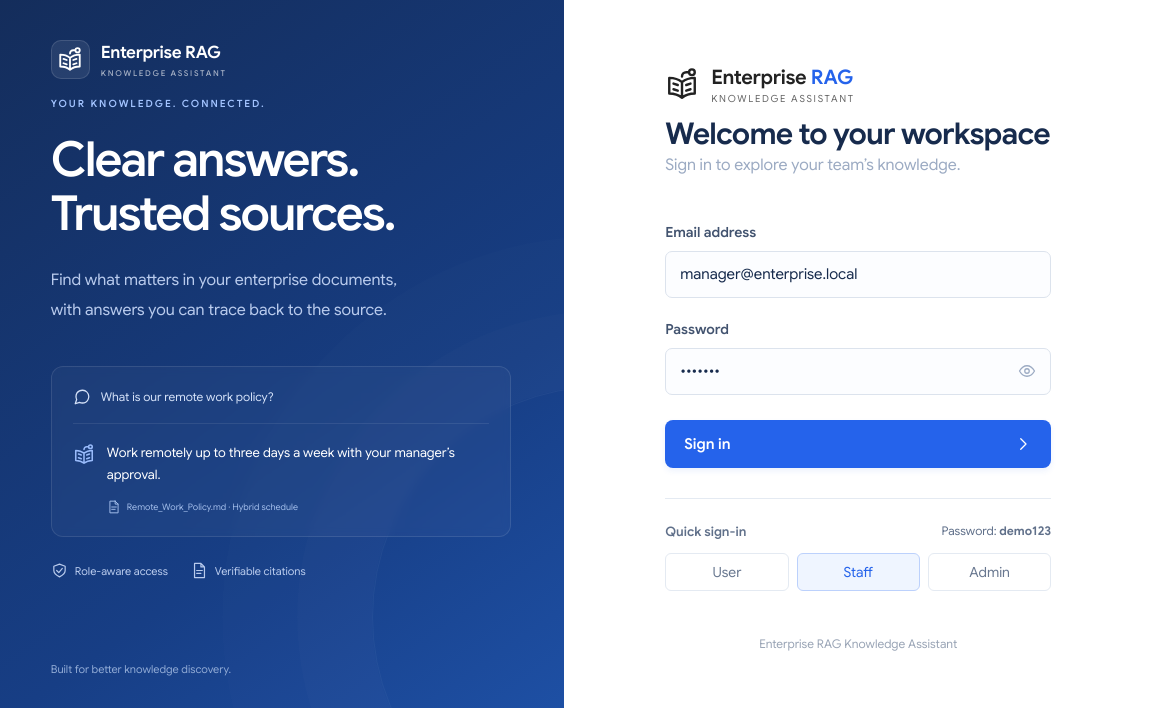
Test case: Sprint 4 frontend workflows › preserves the original retrieval mode on unsaved retry and keeps 403 signed in
Click the button "Sign in" at (707, 444), box [665, 420, 1051, 468]
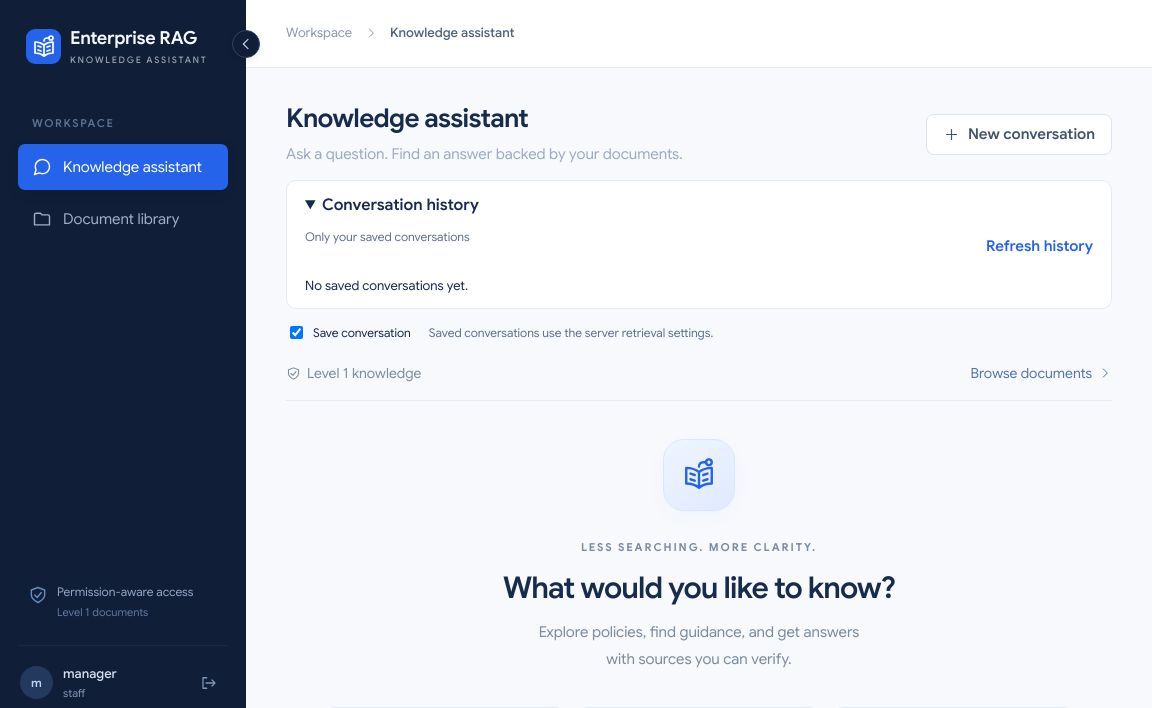
Check: the heading "Knowledge assistant" is shown, box [286, 102, 528, 134]
Click the checkbox labelled "Save conversation" at (296, 332), box [290, 326, 303, 339]
(page scrolled)
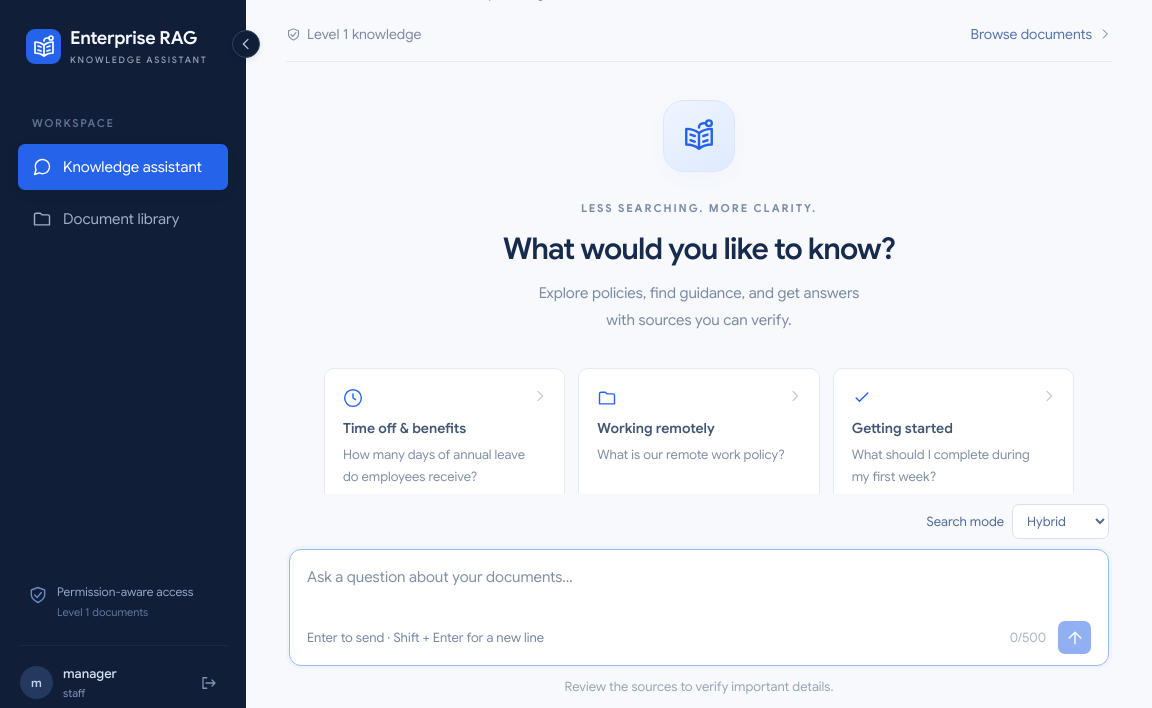
Select "Keyword" in the dropdown labelled "Search mode" at (1060, 522), box [1012, 504, 1109, 539]
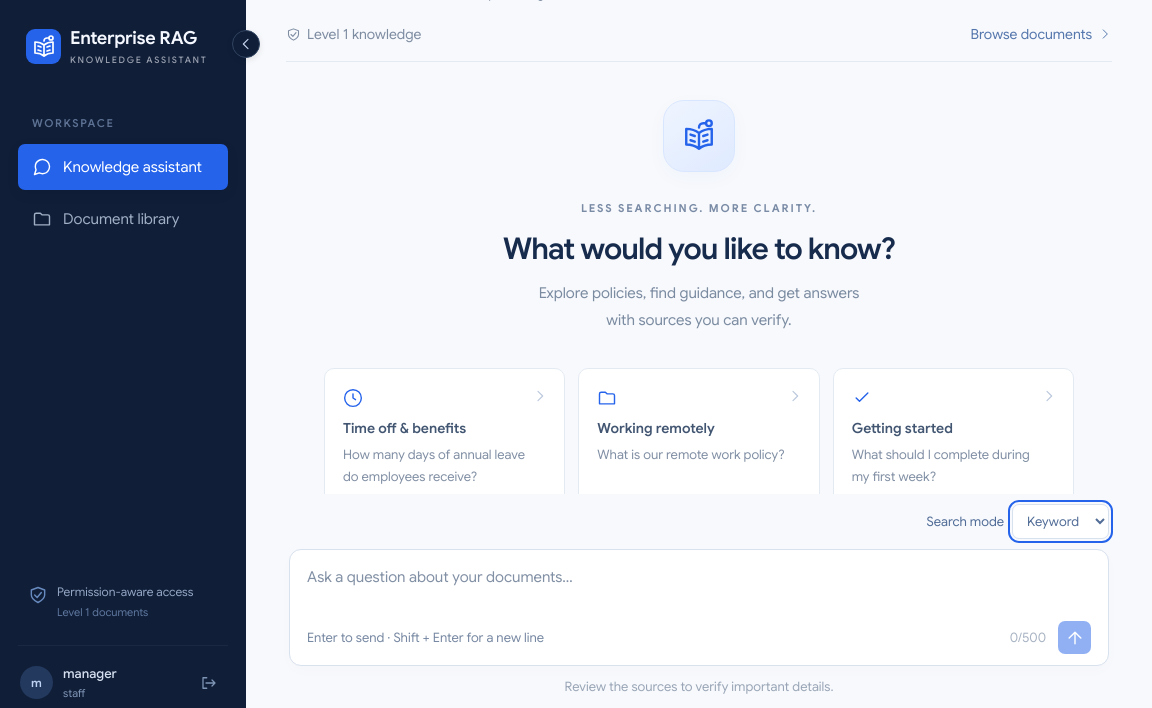
Type "annual leave" into the text box labelled "Ask a question about your documents" at (699, 590), box [307, 565, 1091, 616]
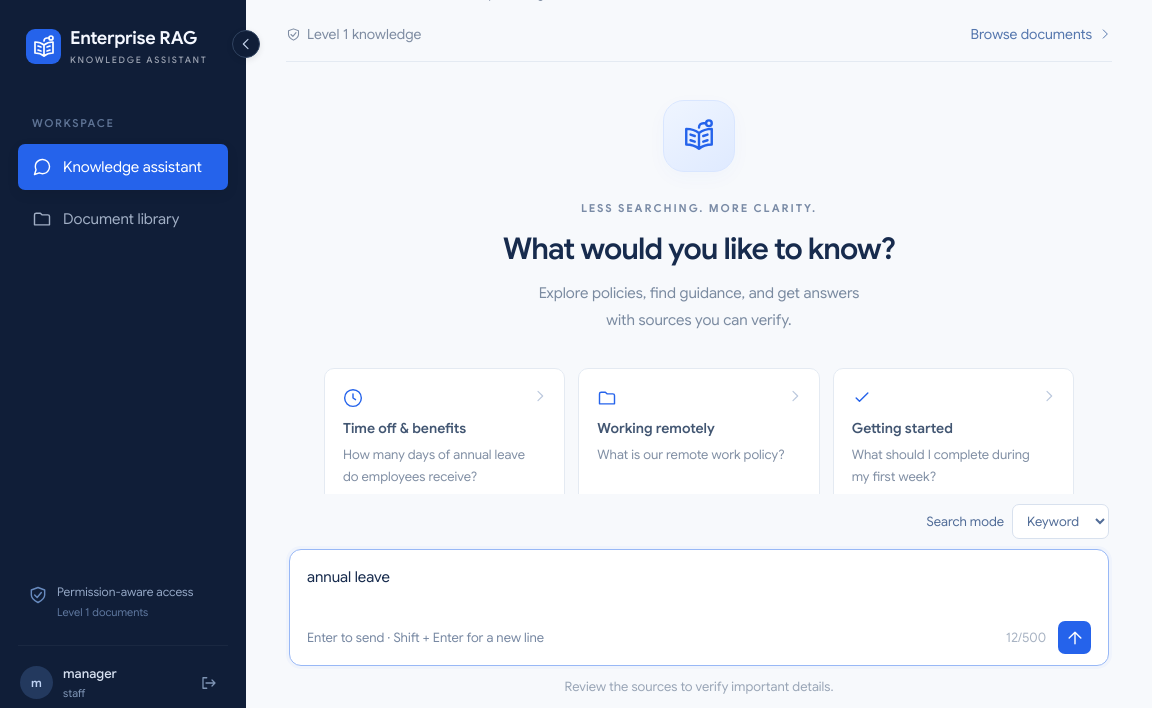
Click the button named "Send question" at (1074, 638), box [1058, 621, 1091, 654]
(page scrolled)
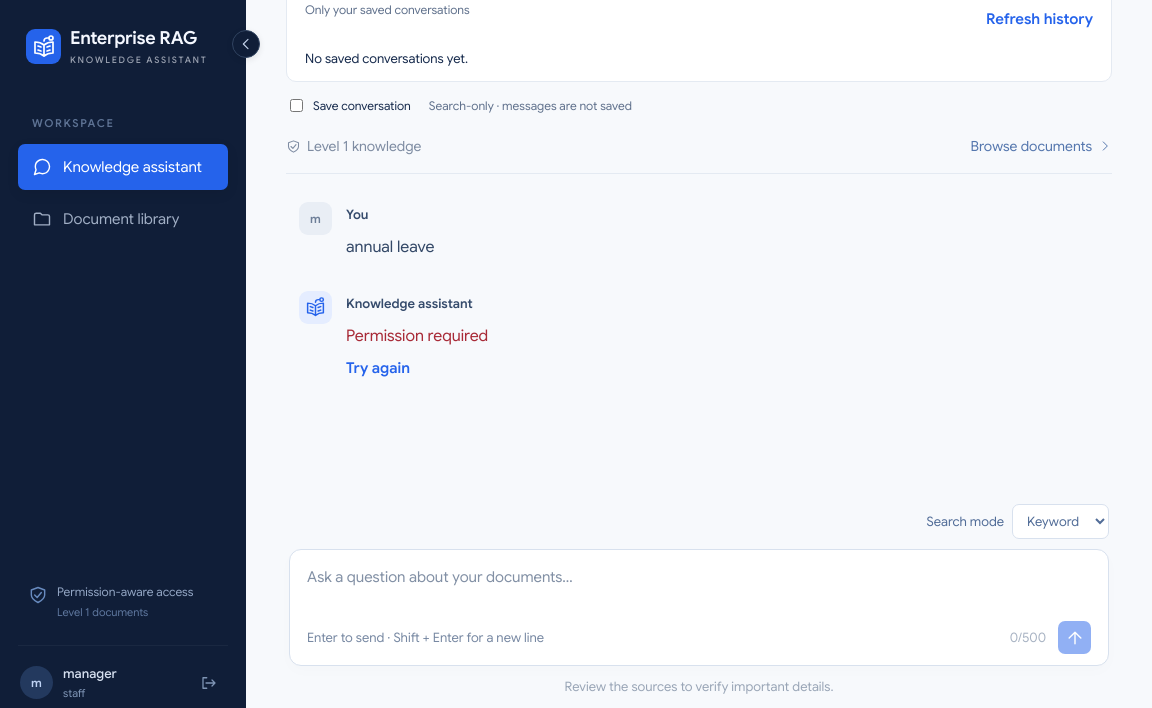
Check: the text "Permission required" is shown, box [346, 326, 488, 346]
Select "Semantic" in the dropdown labelled "Search mode" at (1060, 522), box [1012, 504, 1109, 539]
Click the button "Try again" at (378, 368), box [346, 351, 410, 385]
(page scrolled)
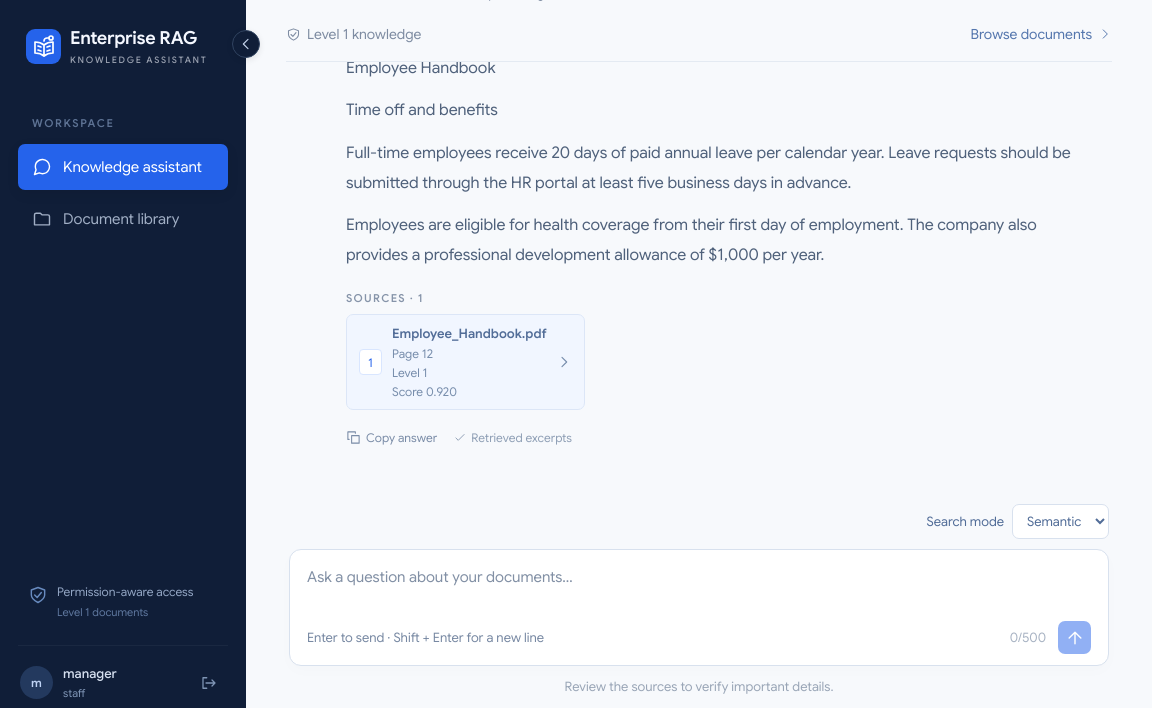
Check: the button "1 Employee_Handbook.pdf Page 12 Level 1 Score 0.920" is shown, box [346, 314, 586, 410]
